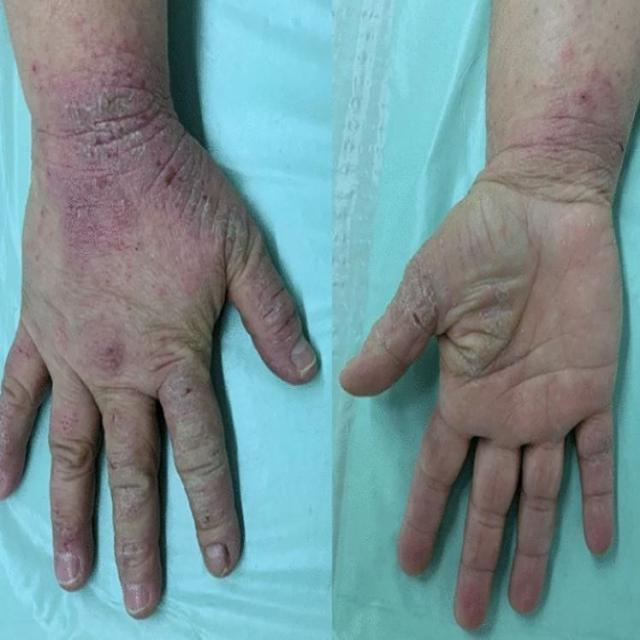Eczema: (21, 44, 208, 273), (375, 268, 521, 378)
